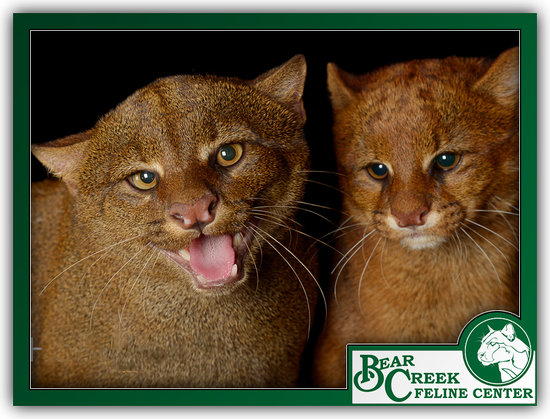Jaguarundi: (45, 53, 314, 355), (323, 44, 508, 298)
